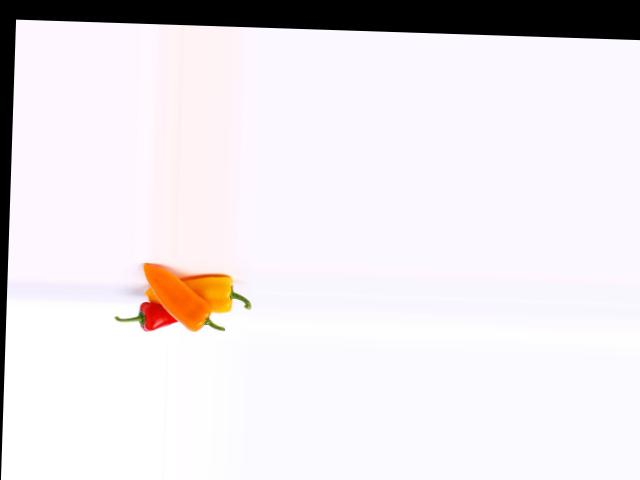bell_pepper: (171, 265, 255, 318)
